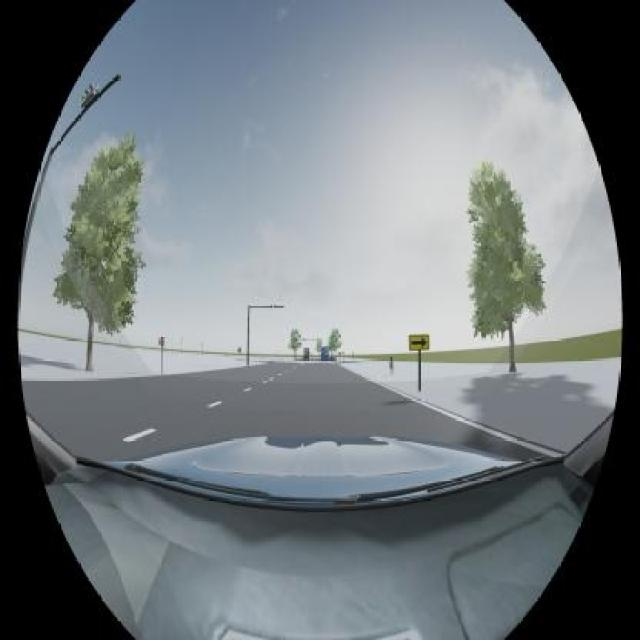forb_speed_over_30: (158, 336, 167, 347)
